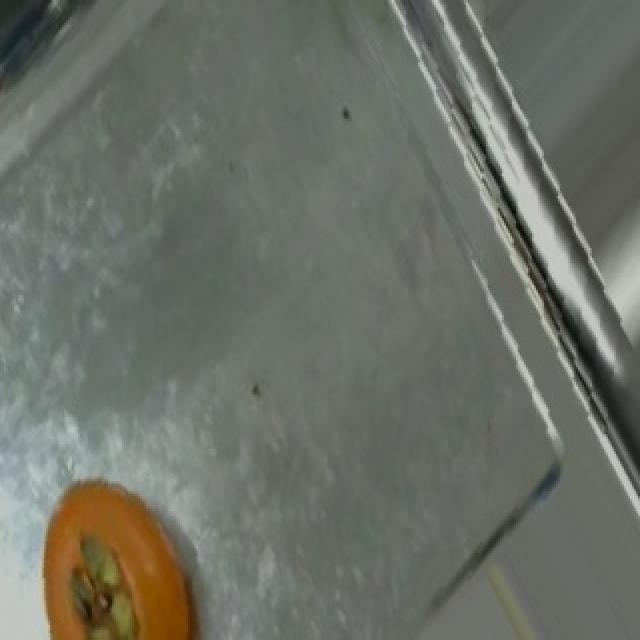Fruit: (8, 464, 216, 640)
